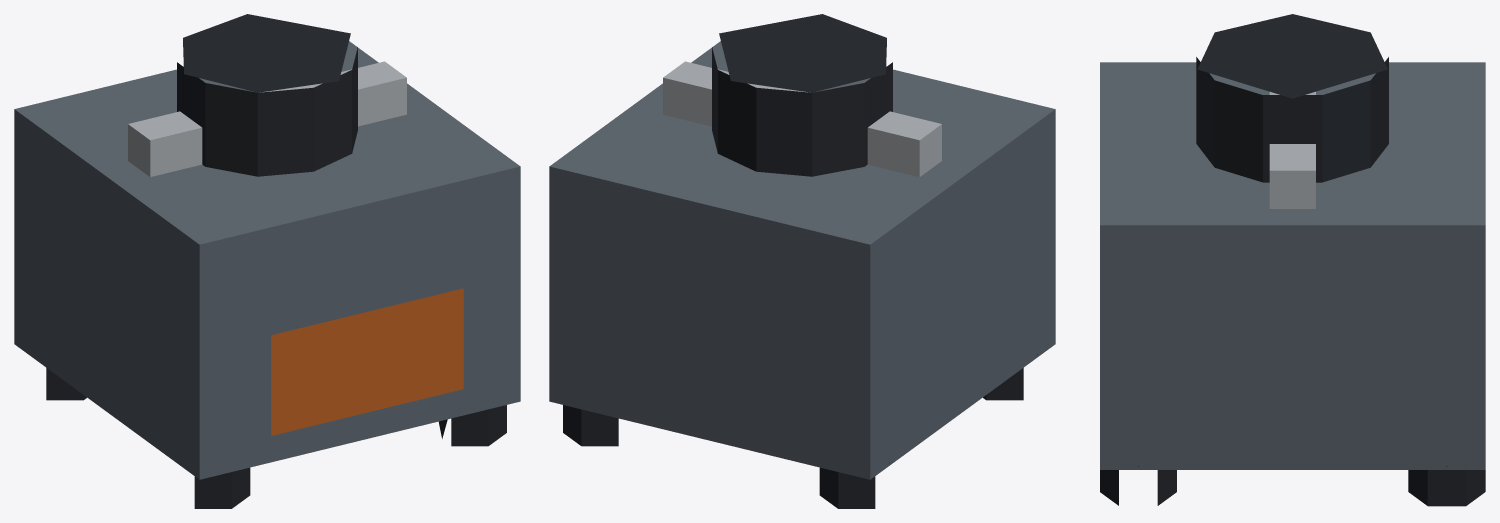
Rendered from gravity-generator.lod.glb.
3 renders of one model, left to right at view 1: azimuth 30°, elevation 25°; view 2: azimuth 150°, elevation 25°; view 3: azimuth 270°, elevation 25°, orthographic. The views are drawn at different scales.
Parts seen in each view (by area): view 1: m; view 2: m; view 3: m.
Part boxes in pixels (<box>): m: <box>14,14,520,508</box>; m: <box>549,14,1055,508</box>; m: <box>1100,14,1485,506</box>.
Size of the model in its own units: 0.1061 by 0.1116 by 0.1095.
